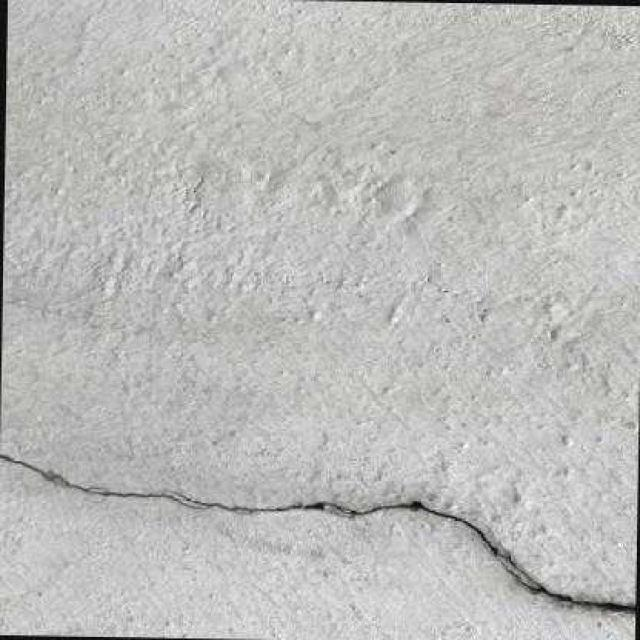D00: (182, 493, 635, 618), (0, 452, 211, 512)
